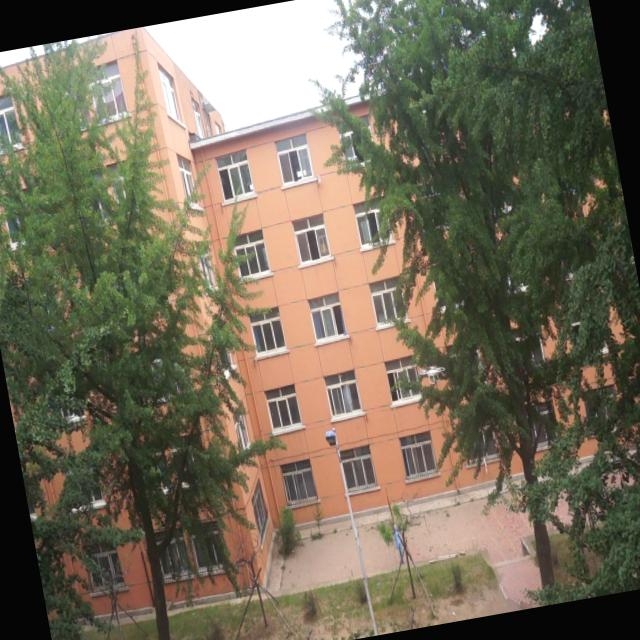drone: (418, 358, 448, 388)
